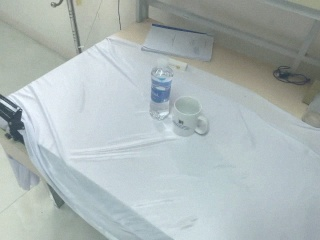bottle: (149, 58, 174, 121)
cup: (171, 96, 209, 137)
